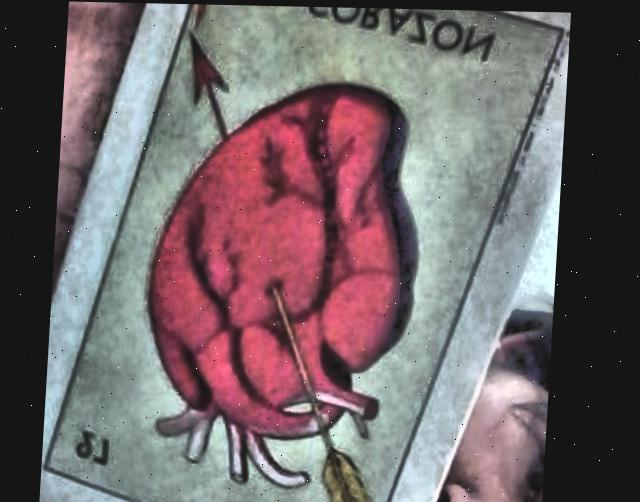El Corazon: (52, 3, 558, 502)
